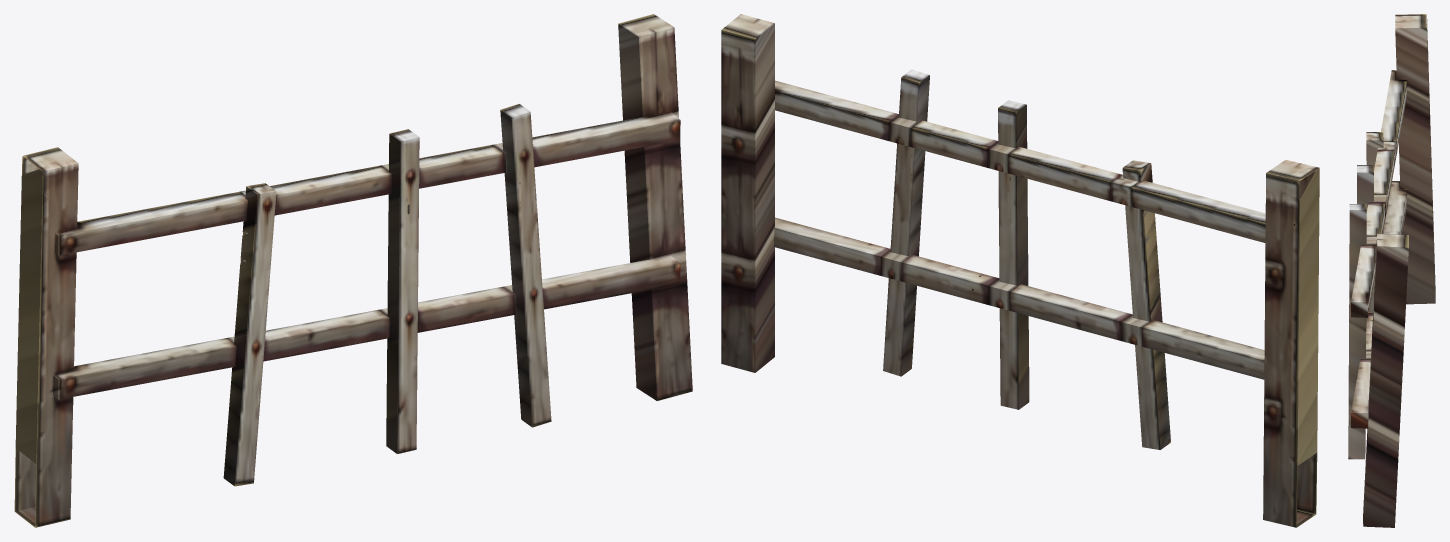
Rendered from fence_20.glb.
3 renders of one model, left to right at view 1: azimuth 30°, elevation 25°; view 2: azimuth 150°, elevation 25°; view 3: azimuth 270°, elevation 25°, orthographic. The views are drawn at different scales.
Visible parts, largest first — view 1: fence_20_game; view 2: fence_20_game; view 3: fence_20_game.
Part boxes in pixels (box(x1,y1,x2,y2)): fence_20_game: box(14, 14, 692, 527); fence_20_game: box(721, 14, 1319, 527); fence_20_game: box(1348, 14, 1435, 527).
Bounding box in the file's own units: 2.3 × 1.26 × 0.3572.
Materials: 1 (1 with a texture image).
